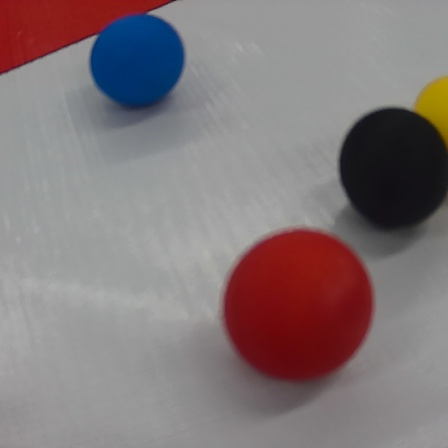black: (334, 108, 448, 225)
blue: (1, 0, 182, 82)
red: (221, 227, 376, 384)
red_base: (90, 12, 185, 107)
yellow: (411, 74, 447, 147)
